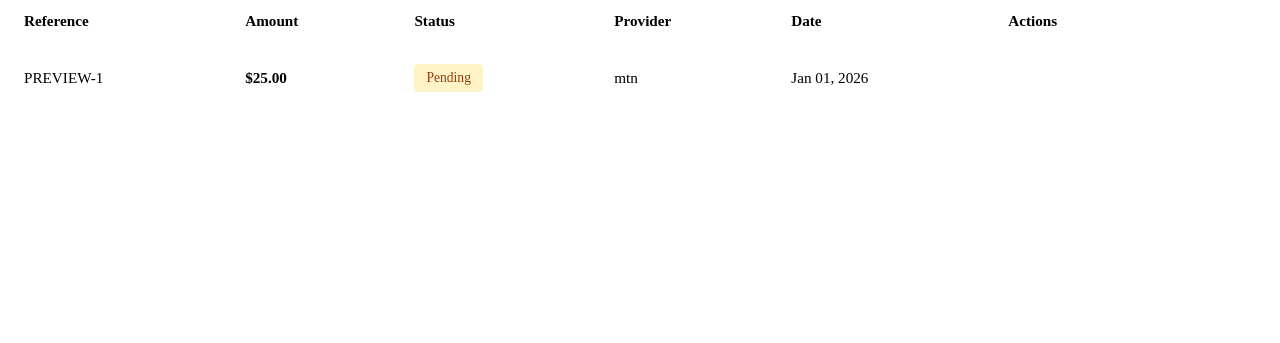
Test: TransactionsTable preview › shows the preview after a mobile long press
Press the mouse on the row with test id "transaction-row-preview-1" at coordinates (640, 78), box [8,46,1272,110]
Wait 500 ms
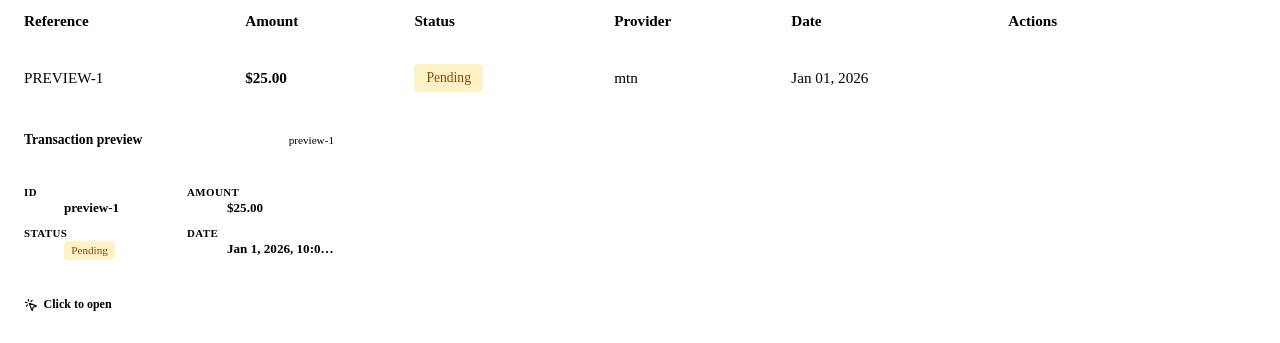
Expected: the tooltip with test id "transaction-row-preview" is shown, [8,118,350,326]
